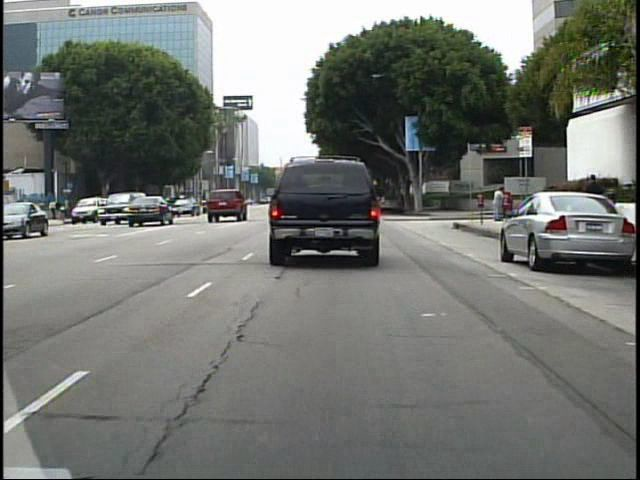person: (580, 168, 604, 234), (490, 185, 503, 222)
